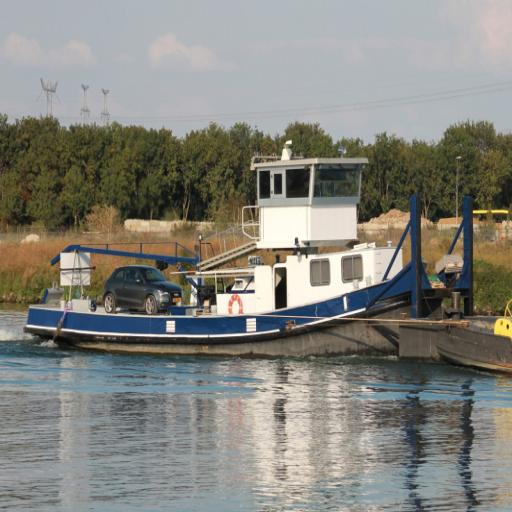tugboat: (21, 139, 481, 377)
